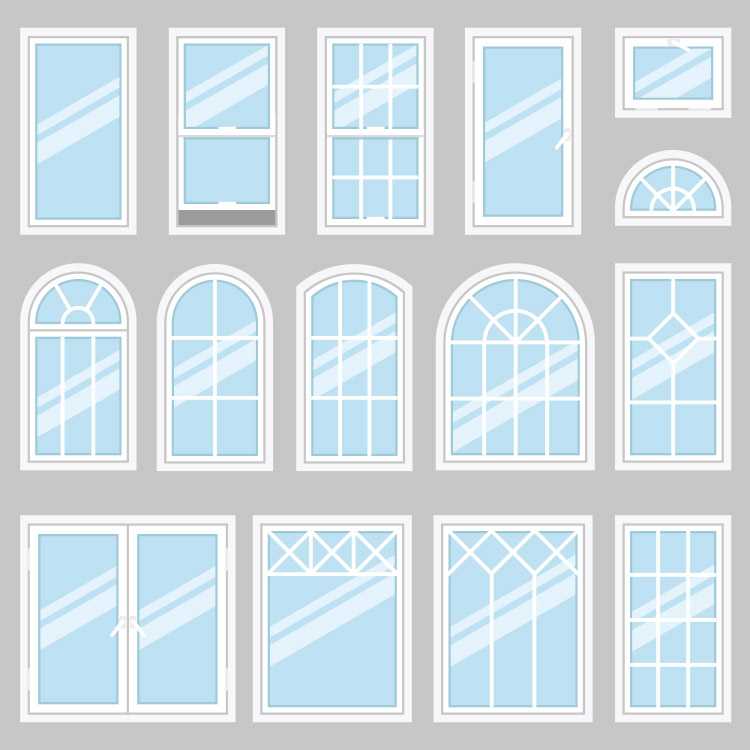Window: (18, 512, 237, 724), (433, 518, 594, 725), (438, 262, 595, 471), (256, 515, 412, 718), (18, 28, 137, 236), (617, 264, 736, 471), (297, 262, 414, 471), (614, 517, 733, 722), (466, 28, 583, 236), (158, 262, 273, 472), (21, 264, 138, 470), (169, 28, 286, 231), (320, 29, 431, 232), (617, 30, 734, 114), (614, 150, 731, 228)
